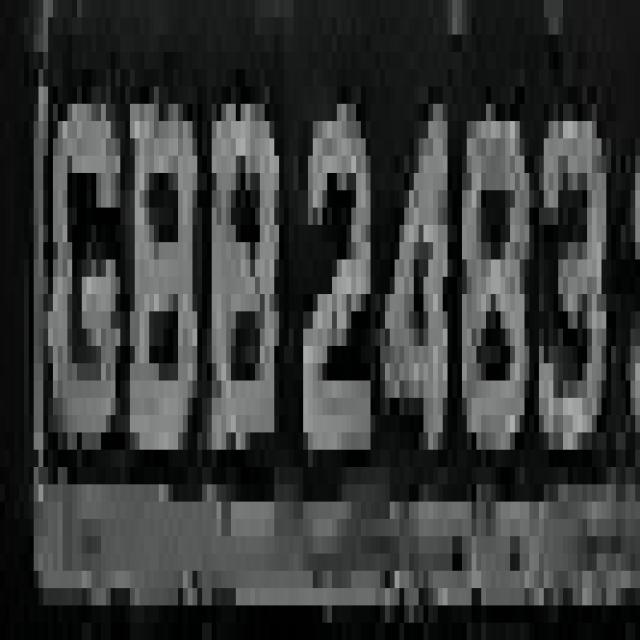2: (298, 52, 380, 484)
3: (534, 52, 611, 502)
4: (380, 86, 462, 502)
8: (457, 52, 544, 484)
B: (120, 86, 207, 502), (202, 87, 284, 467)
G: (43, 87, 125, 467)
